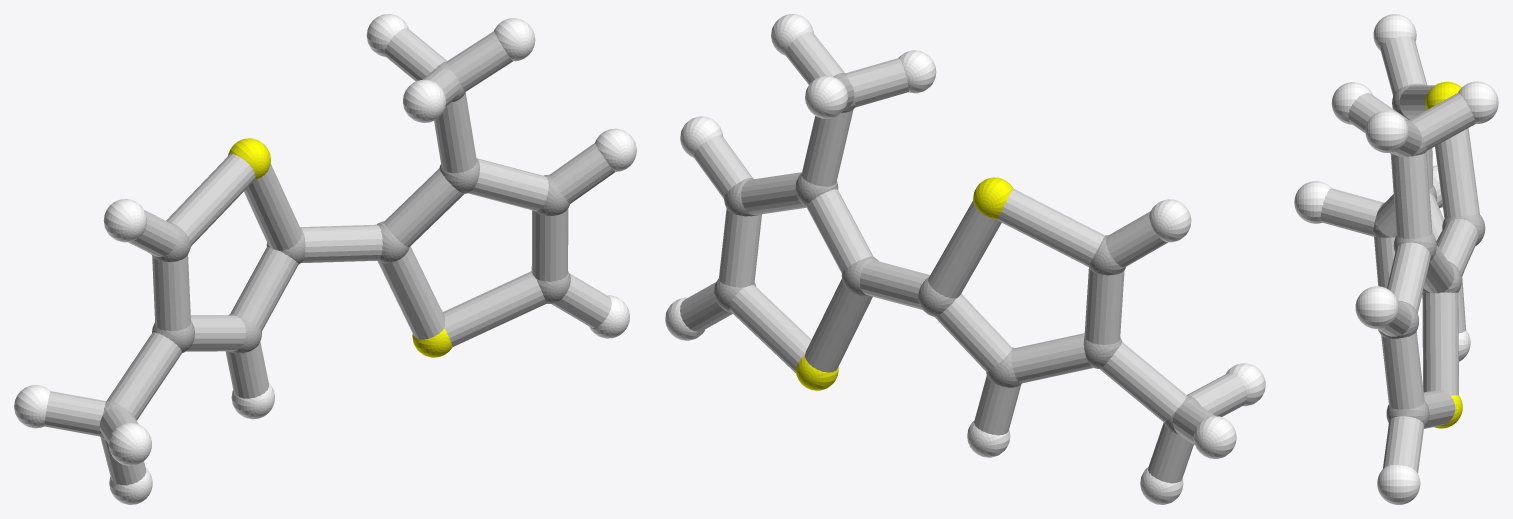
The model's file is color.glb.
The picture shows the model from 3 angles, left to right: view 1: azimuth 30°, elevation 25°; view 2: azimuth 150°, elevation 25°; view 3: azimuth 270°, elevation 25°; orthographic projection.
Visible parts, largest first — view 1: grp7965, grp3621, grp1, grp7241; view 2: grp7965, grp3621, grp1, grp7241; view 3: grp7965, grp3621, grp1, grp7241.
Boxes of the visible parts, x1,y1,x2,y2 form: grp7965: (44,28,614,485); grp3621: (14,14,636,504); grp1: (100,62,570,440); grp7241: (228,138,452,357); grp7965: (680,31,1247,483); grp3621: (665,14,1265,504); grp1: (714,73,1200,434); grp7241: (796,177,1013,390); grp7965: (1320,36,1479,473); grp3621: (1294,14,1498,504); grp1: (1373,83,1485,427); grp7241: (1425,81,1462,428).
Bounding box in the file's own units: 9.39 × 6 × 2.84.
